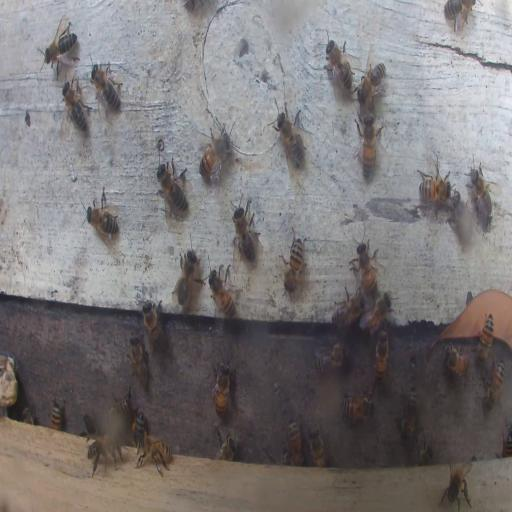bee: (173, 235, 205, 313), (39, 18, 79, 78), (270, 104, 306, 170), (84, 186, 120, 245), (230, 193, 260, 263), (198, 125, 230, 187), (156, 157, 190, 215), (324, 36, 356, 96), (468, 160, 496, 227), (89, 59, 122, 113), (440, 460, 474, 511), (330, 281, 366, 328), (60, 77, 88, 135), (208, 266, 238, 320), (84, 432, 121, 474), (355, 234, 380, 296), (358, 57, 386, 111), (282, 231, 304, 295), (138, 435, 174, 474), (356, 111, 377, 177), (361, 290, 392, 334), (416, 166, 452, 203), (141, 301, 166, 352), (127, 335, 150, 388), (398, 386, 421, 439), (450, 190, 472, 243), (212, 361, 232, 416), (343, 390, 376, 422), (483, 360, 504, 410), (314, 340, 346, 372), (476, 312, 494, 363), (110, 385, 134, 420), (307, 426, 327, 467), (442, 346, 469, 376), (374, 328, 388, 385), (443, 0, 472, 27), (286, 418, 302, 466), (214, 427, 236, 459), (130, 408, 146, 452), (415, 435, 433, 463), (501, 418, 512, 459), (50, 400, 63, 430), (83, 415, 97, 440), (20, 406, 34, 423)
